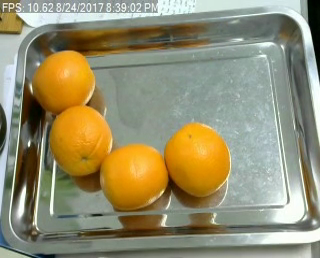Orange: (164, 121, 231, 197), (98, 144, 169, 210), (49, 106, 112, 176), (30, 49, 93, 111)
